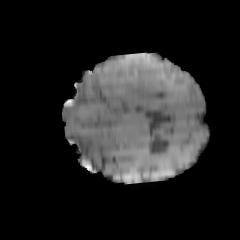glioma: (93, 54, 169, 103)
